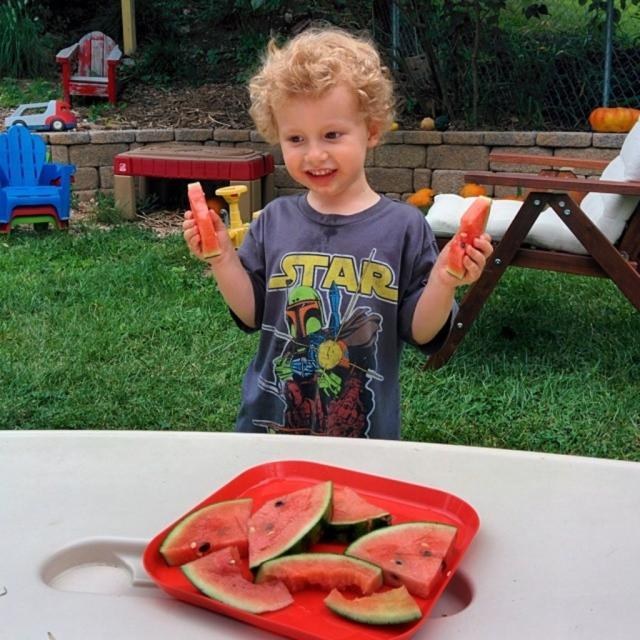Watermelon: (156, 484, 458, 628), (444, 194, 492, 278), (186, 183, 221, 258)
